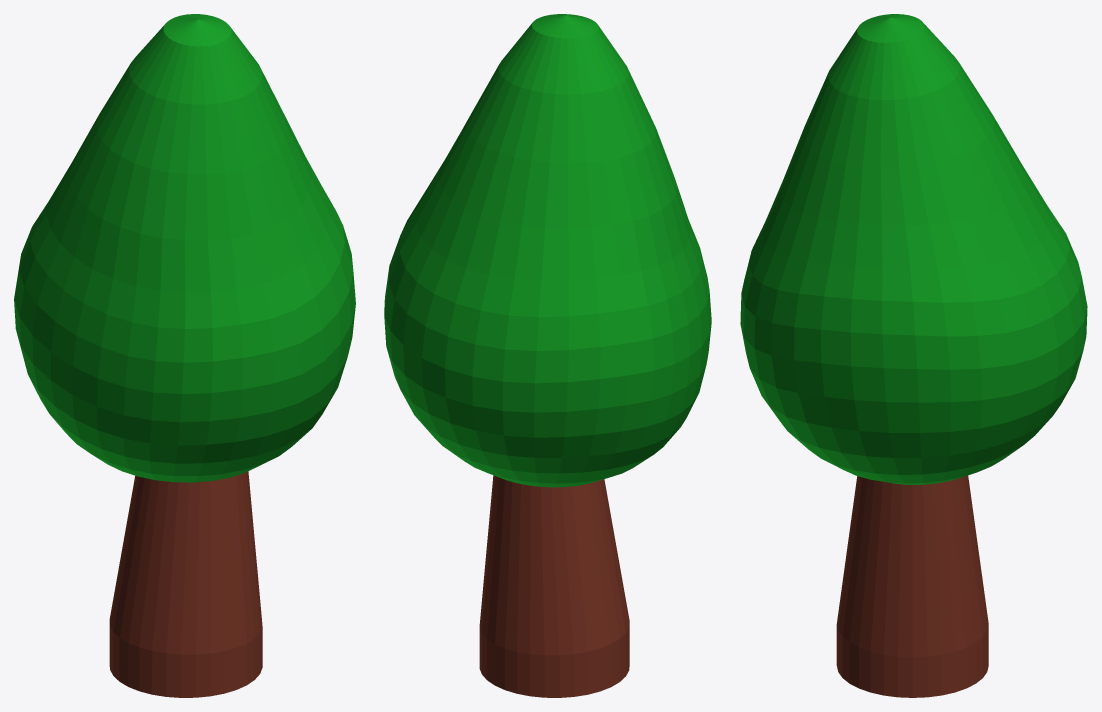
Rendered from Дерево.obj.
3 views of the same model, side by side, from view 1: azimuth 30°, elevation 25°; view 2: azimuth 150°, elevation 25°; view 3: azimuth 270°, elevation 25° (orthographic).
Visible parts, largest first — view 1: Sphere, Circle; view 2: Sphere, Circle; view 3: Sphere, Circle.
Part boxes in pixels (left/top/right/bottom): Sphere: left=14, top=14, right=355, bottom=482; Circle: left=109, top=471, right=262, bottom=697; Sphere: left=384, top=14, right=711, bottom=487; Circle: left=479, top=475, right=629, bottom=697; Sphere: left=740, top=14, right=1087, bottom=484; Circle: left=836, top=475, right=988, bottom=697.
Bounding box in the file's own units: 2.33 × 5.16 × 2.47.
